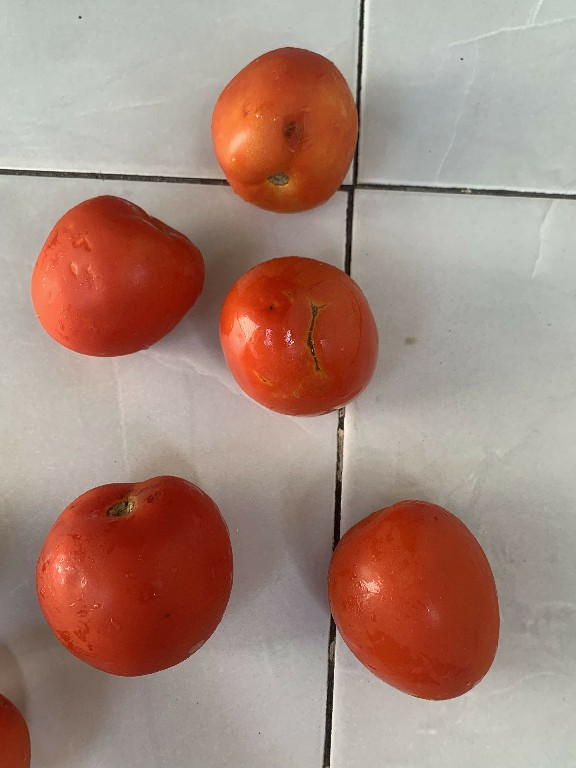NG: (212, 243, 385, 420), (200, 37, 358, 221)
OK: (24, 470, 239, 687), (316, 497, 499, 688), (20, 189, 212, 359)
